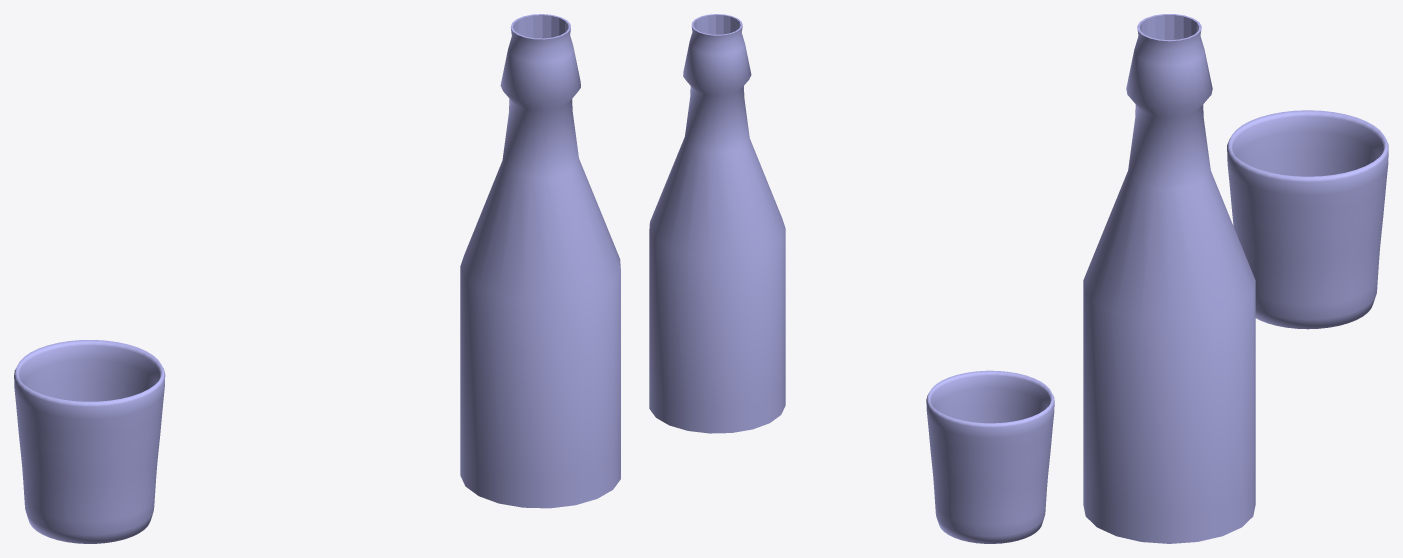
The picture shows the model from 3 angles, left to right: view 1: azimuth 30°, elevation 25°; view 2: azimuth 150°, elevation 25°; view 3: azimuth 270°, elevation 25°; orthographic projection. The views are drawn at different scales.
Parts seen in each view (by area): view 1: Cylinder002, Cylinder001; view 2: Cylinder002, Cylinder001; view 3: Cylinder002, Cylinder001.
Part boxes in pixels (left/top/right/bottom): Cylinder002: left=460, top=14, right=620, bottom=508; Cylinder001: left=14, top=340, right=165, bottom=543; Cylinder002: left=649, top=14, right=785, bottom=433; Cylinder001: left=926, top=370, right=1054, bottom=543; Cylinder002: left=1083, top=14, right=1255, bottom=543; Cylinder001: left=1227, top=110, right=1388, bottom=329.
Bounding box in the file's own units: 37.35 × 30.6 × 17.66.
